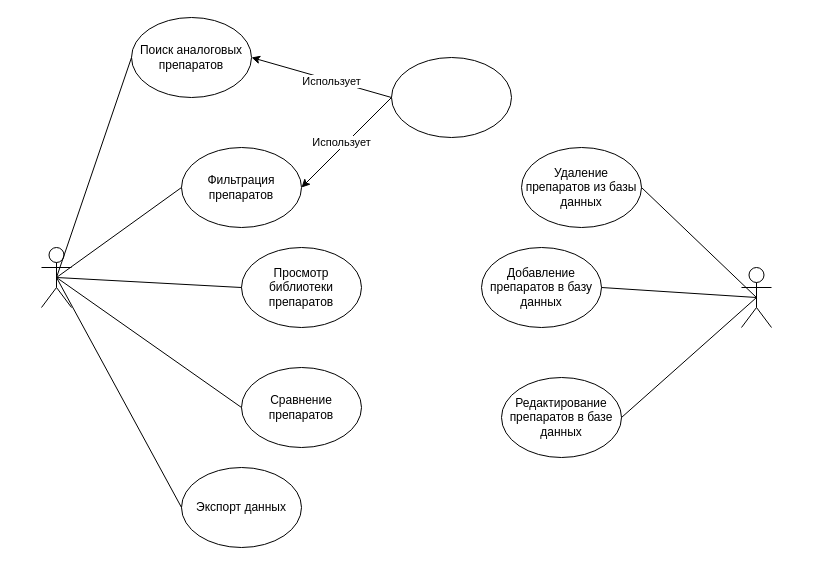
Image size: 817x565. Some labels were removed from this diagram. Here are the shapes that lost their labels. From the top down, the box of each, then its label:
(390, 56, 512, 138): Настройка параметров поиска и фильтрации
(40, 246, 72, 308): Пользователь
(740, 266, 772, 328): Администратор
